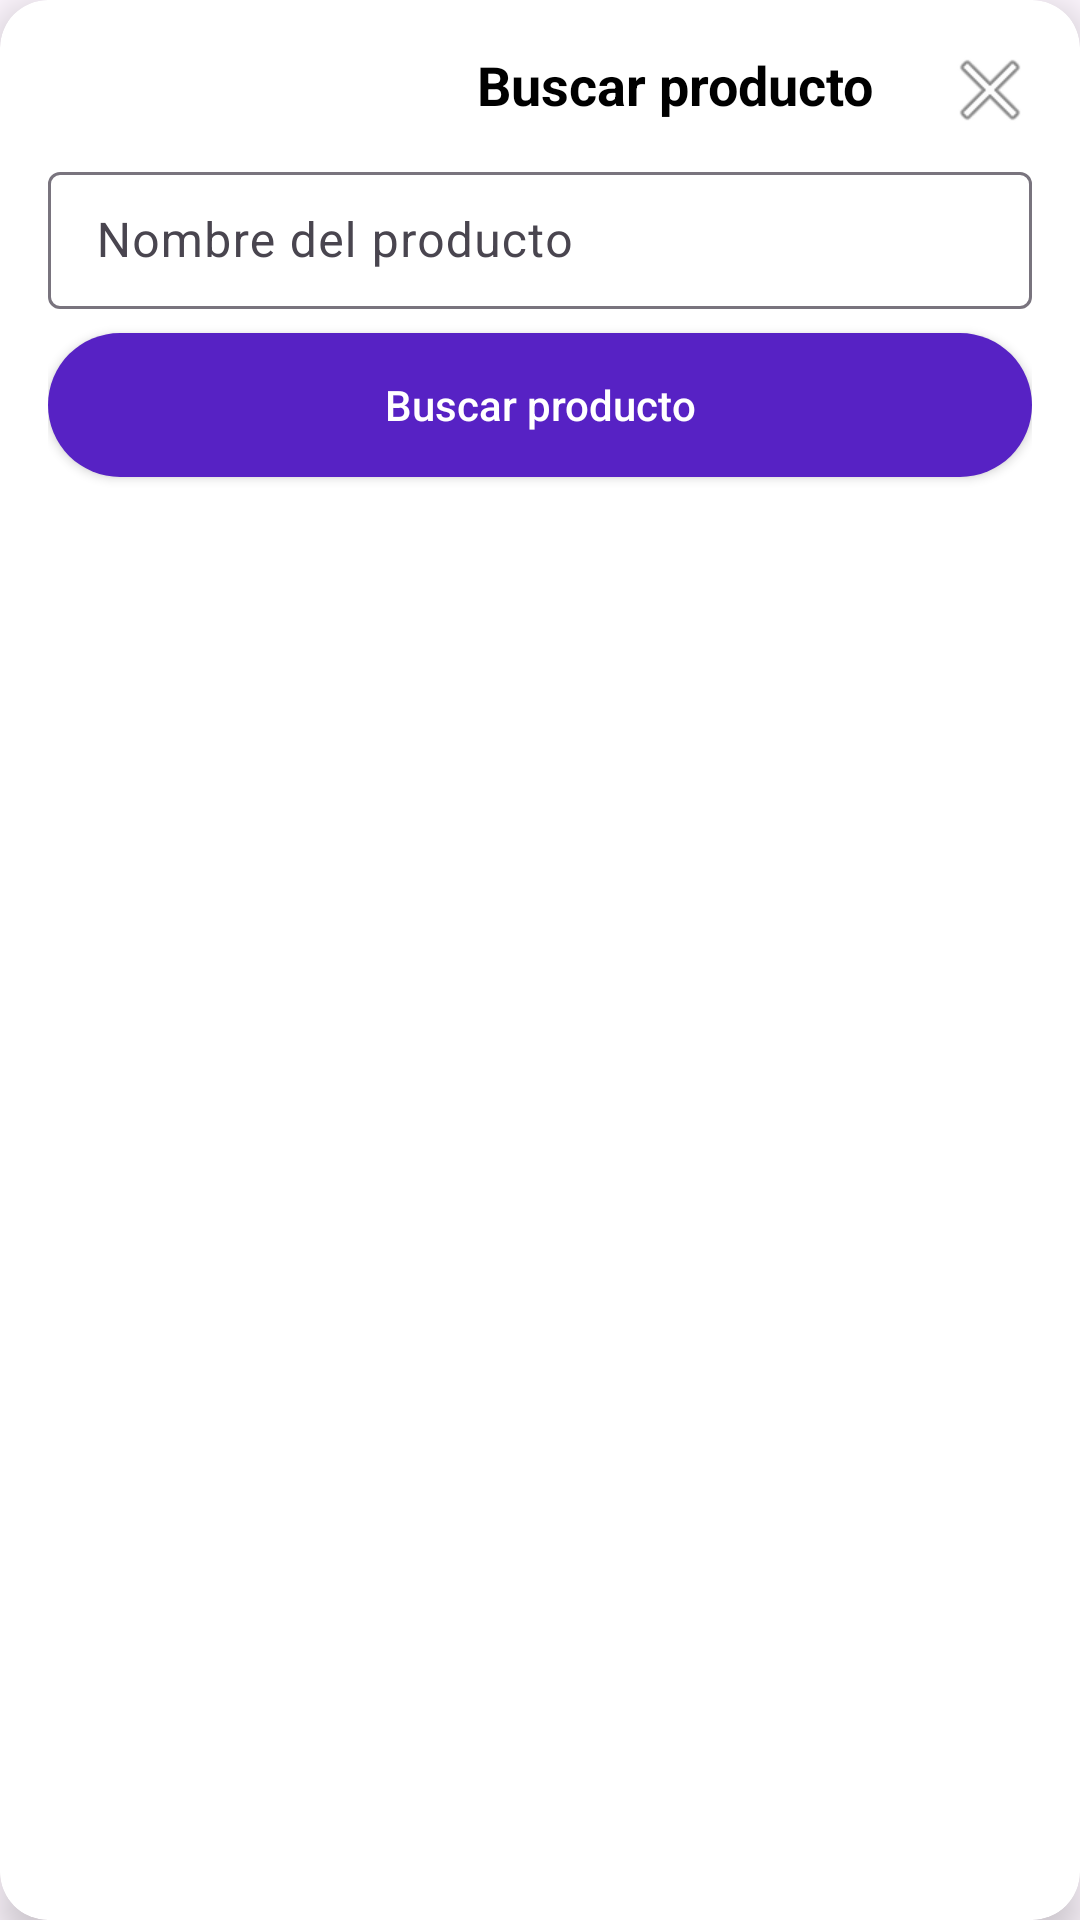

Point at icon controls on the screen. Image size 1080px x 1920px, points as point (x, y).
close clear cancel: point (990, 90)
